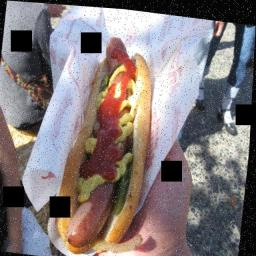hotdog: (51, 31, 161, 254)
